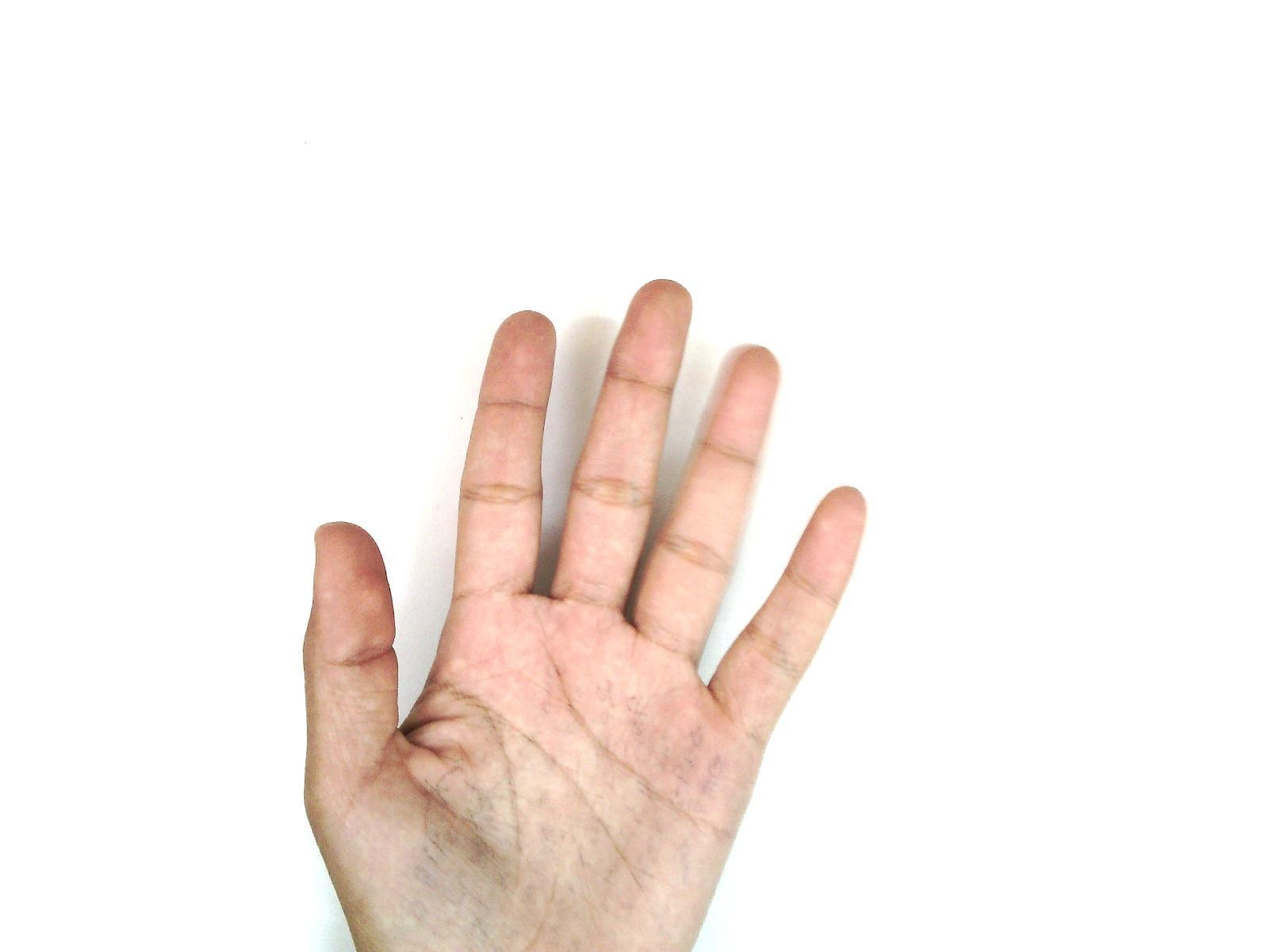open_palm: (299, 278, 870, 951)
